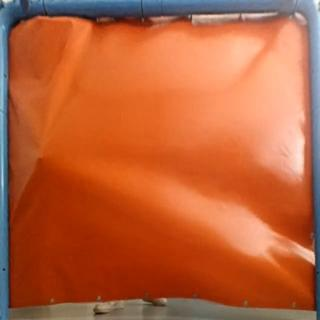Hit-hRxx: (35, 153, 44, 163)
